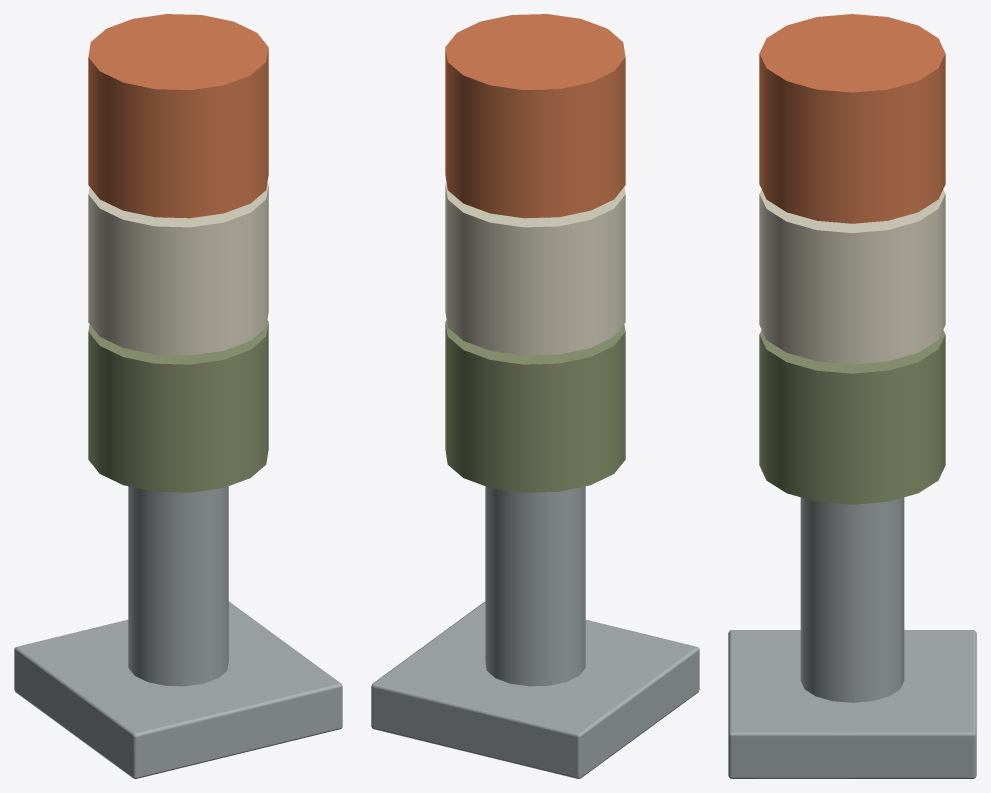
Rendered from off-grid-power-and-controls-status-light-stack-e00faa78__3018.glb.
3 renders of one model, left to right at view 1: azimuth 30°, elevation 25°; view 2: azimuth 150°, elevation 25°; view 3: azimuth 270°, elevation 25°, orthographic. The views are drawn at different scales.
Parts seen in each view (by area): view 1: status-light-stack; view 2: status-light-stack; view 3: status-light-stack.
Part boxes in pixels (x1,y1,x2,y2): status-light-stack: [14, 14, 342, 778]; status-light-stack: [371, 14, 699, 778]; status-light-stack: [728, 14, 976, 778].
Size of the model in its own units: 0.12 by 0.36 by 0.12.
